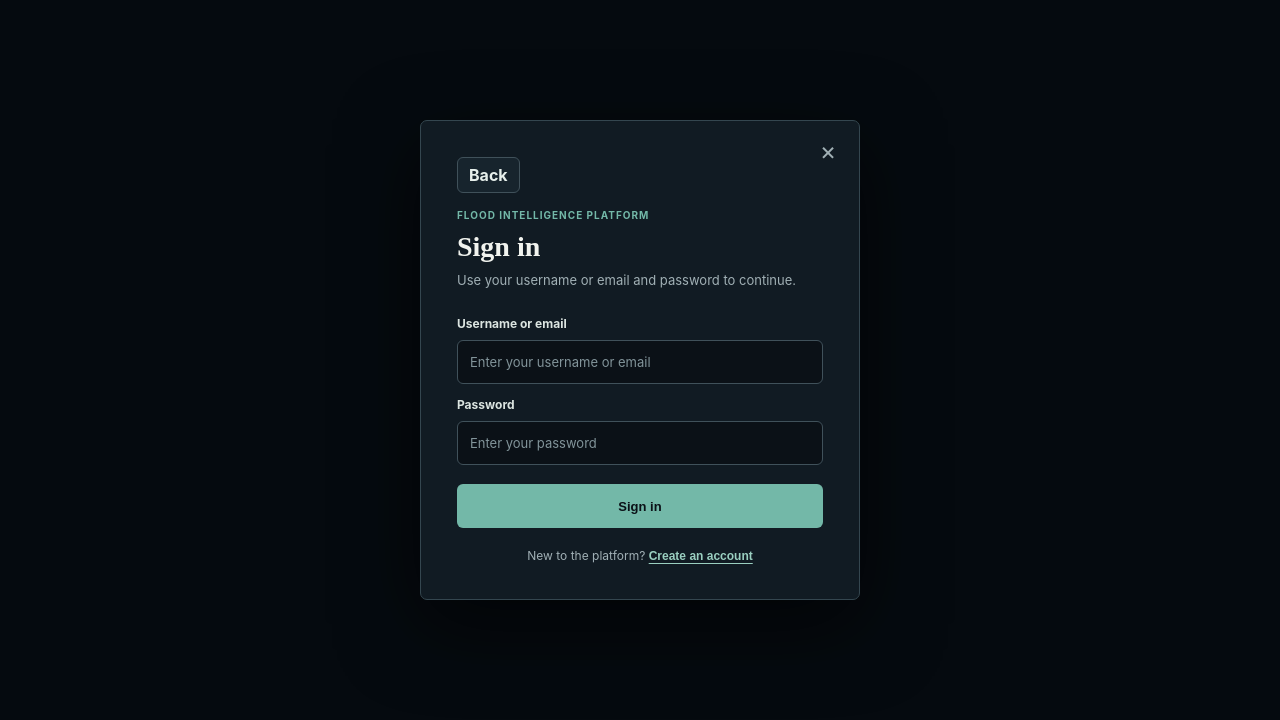
Cognito direct Auth sign-in › explains when the existing Cognito pool disallows public sign-up
Click the button "Create an account" at (701, 556), box [649,549,753,563]
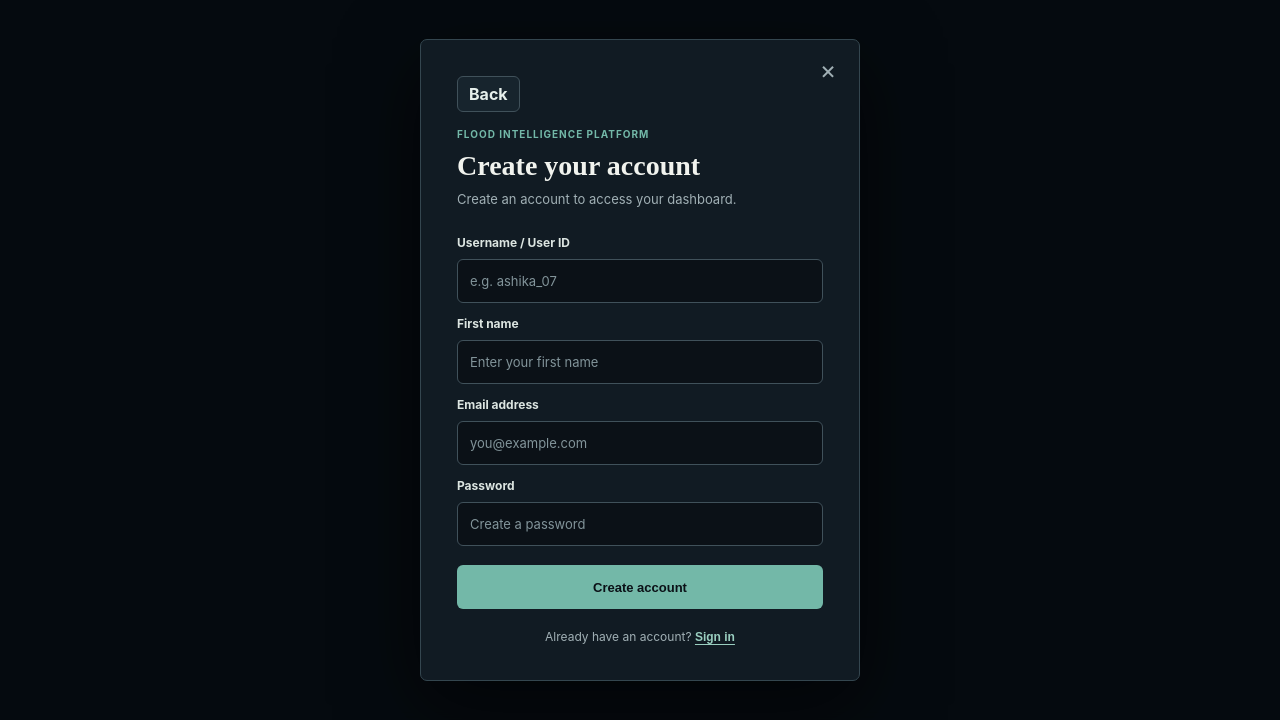
Type "member_07" into the field labelled "Username / User ID" at (640, 281), box [457,259,823,303]
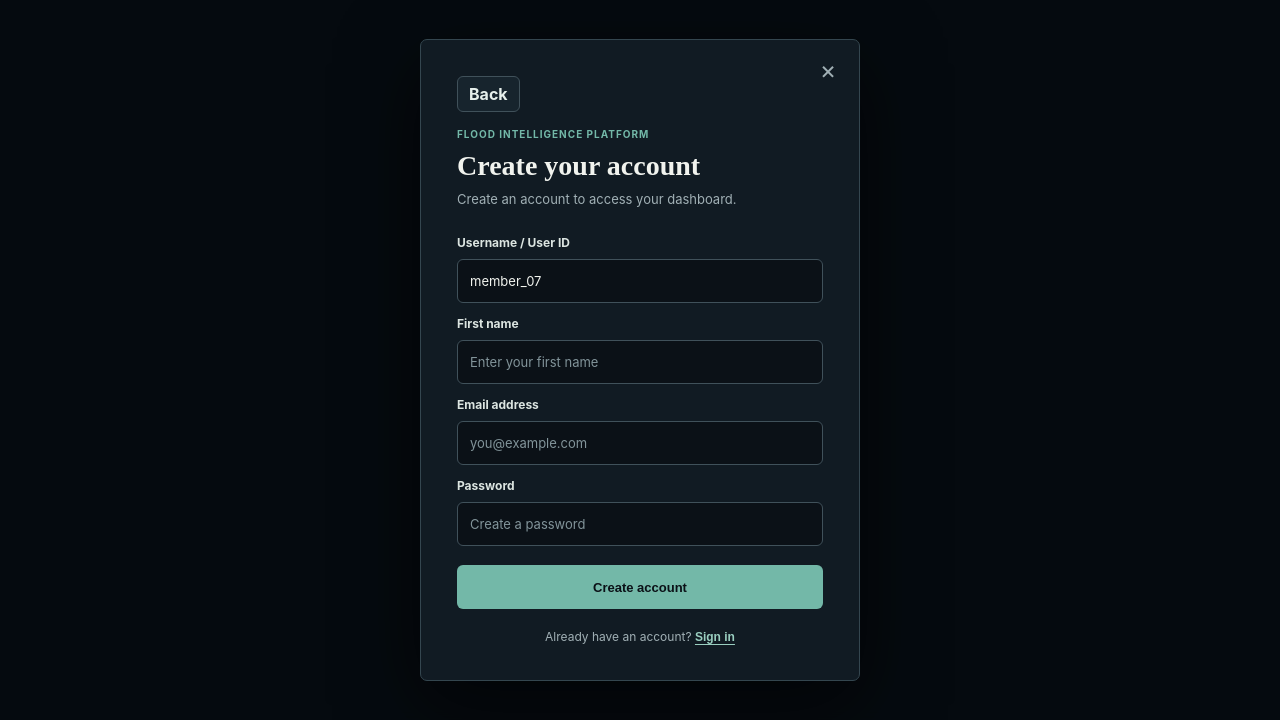
Type "Member" into the field labelled "First name" at (640, 362), box [457,340,823,384]
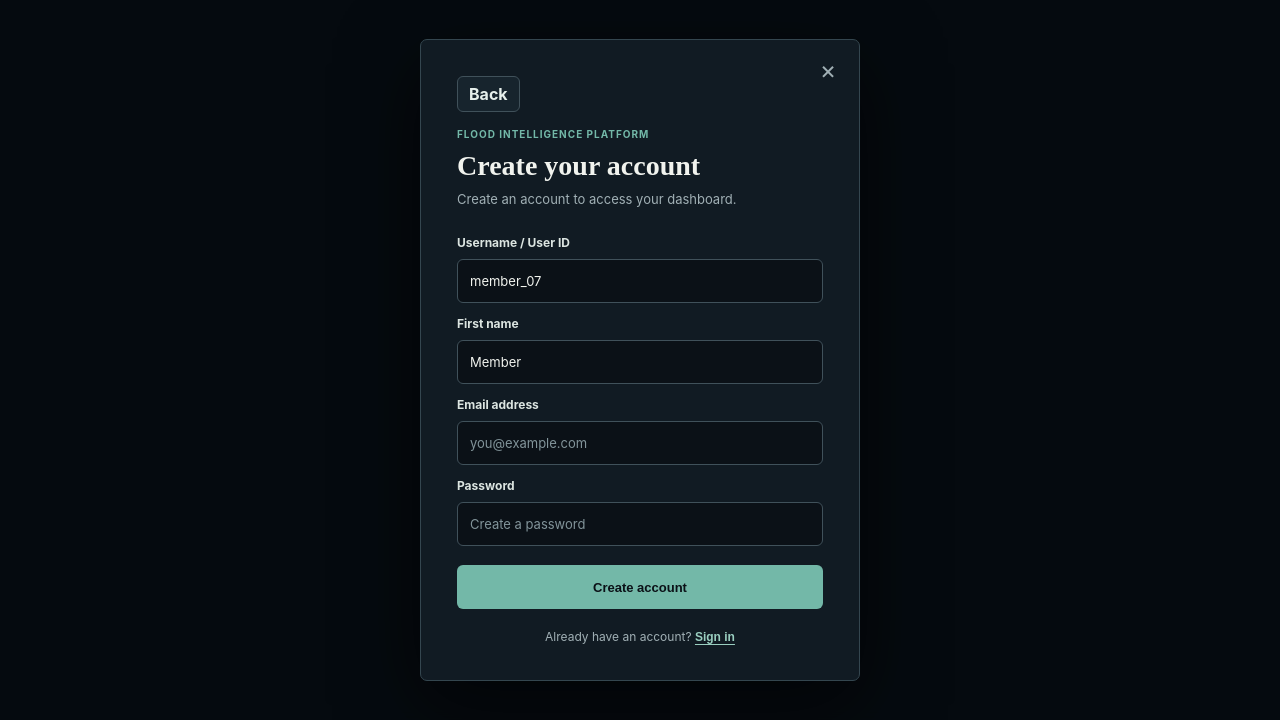
Type "member@example.test" into the field labelled "Email address" at (640, 443), box [457,421,823,465]
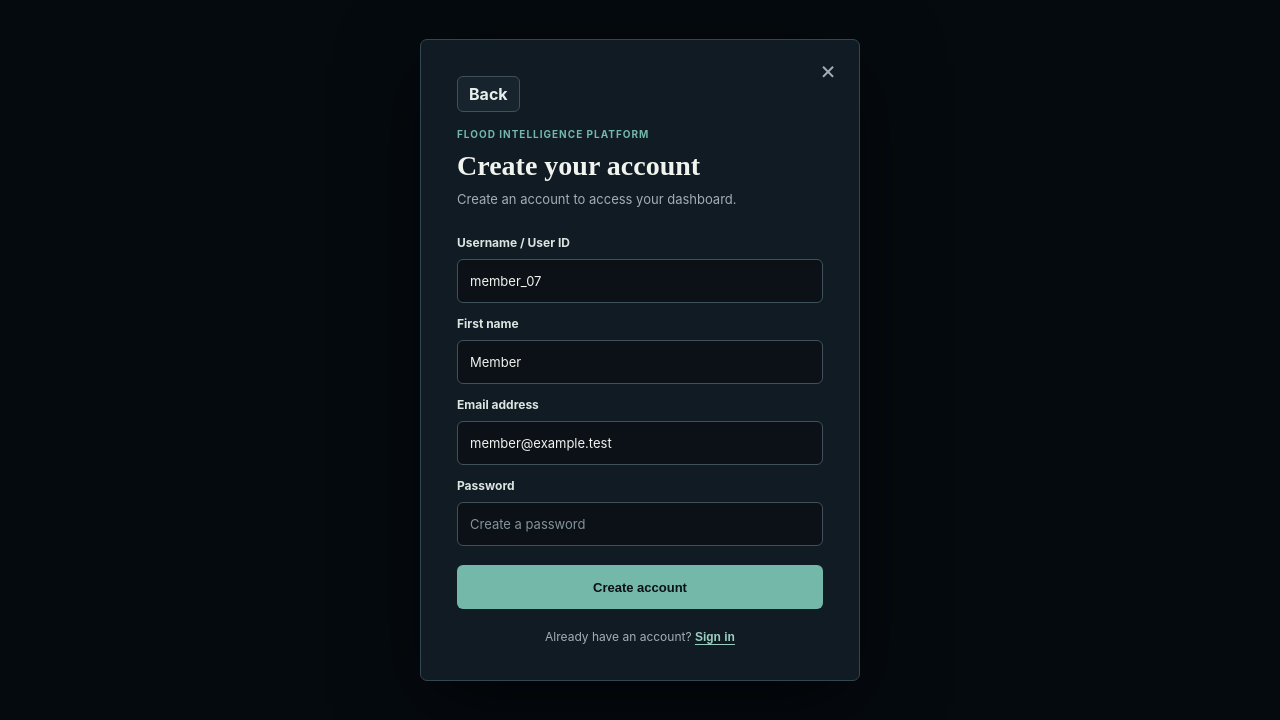
Type "Valid-password-123!" into the password field labelled "Password" at (640, 524), box [457,502,823,546]
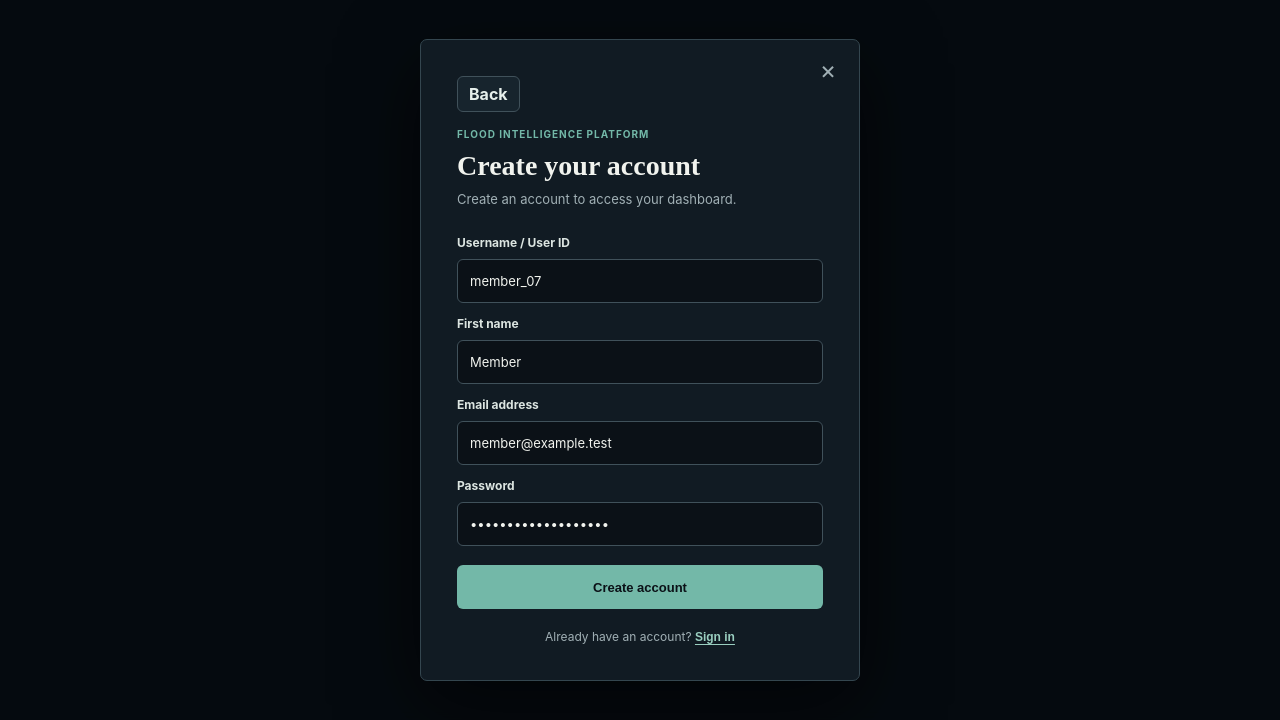
Click the button "Create account" at (640, 587), box [457,565,823,609]
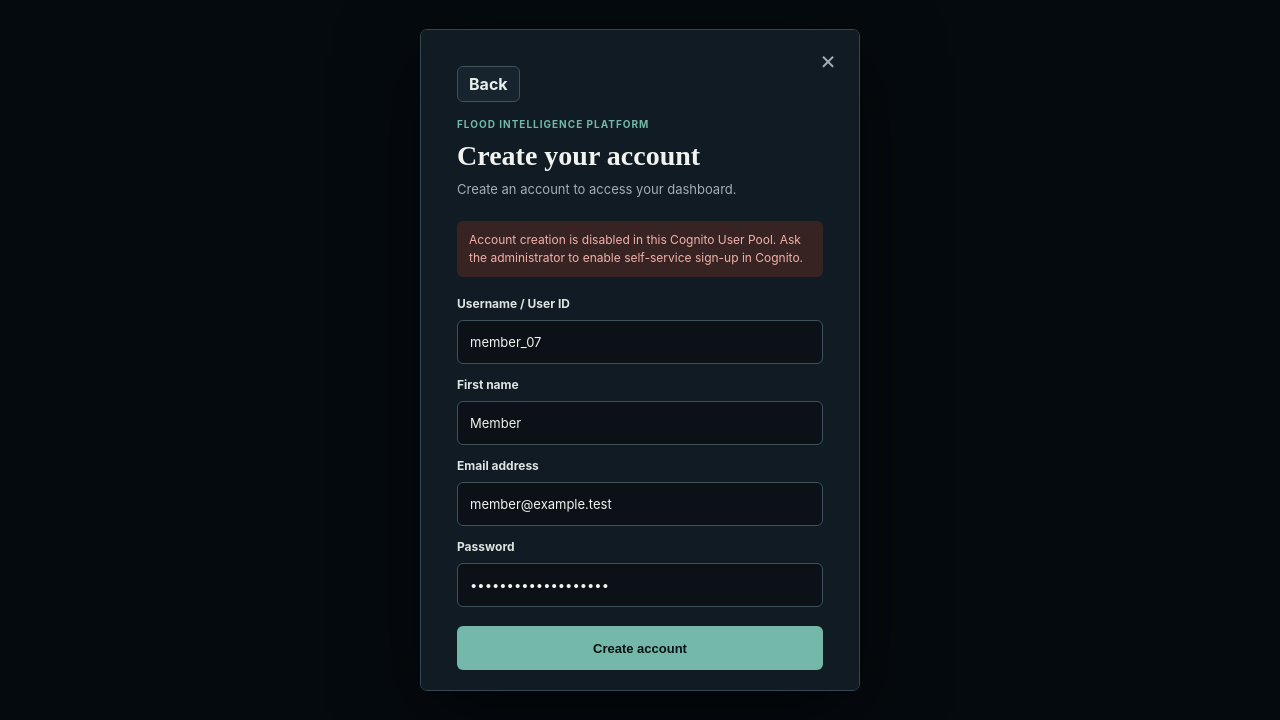
Expected: the message shows "disabled in this Cognito User Pool", [469,232,803,265]
